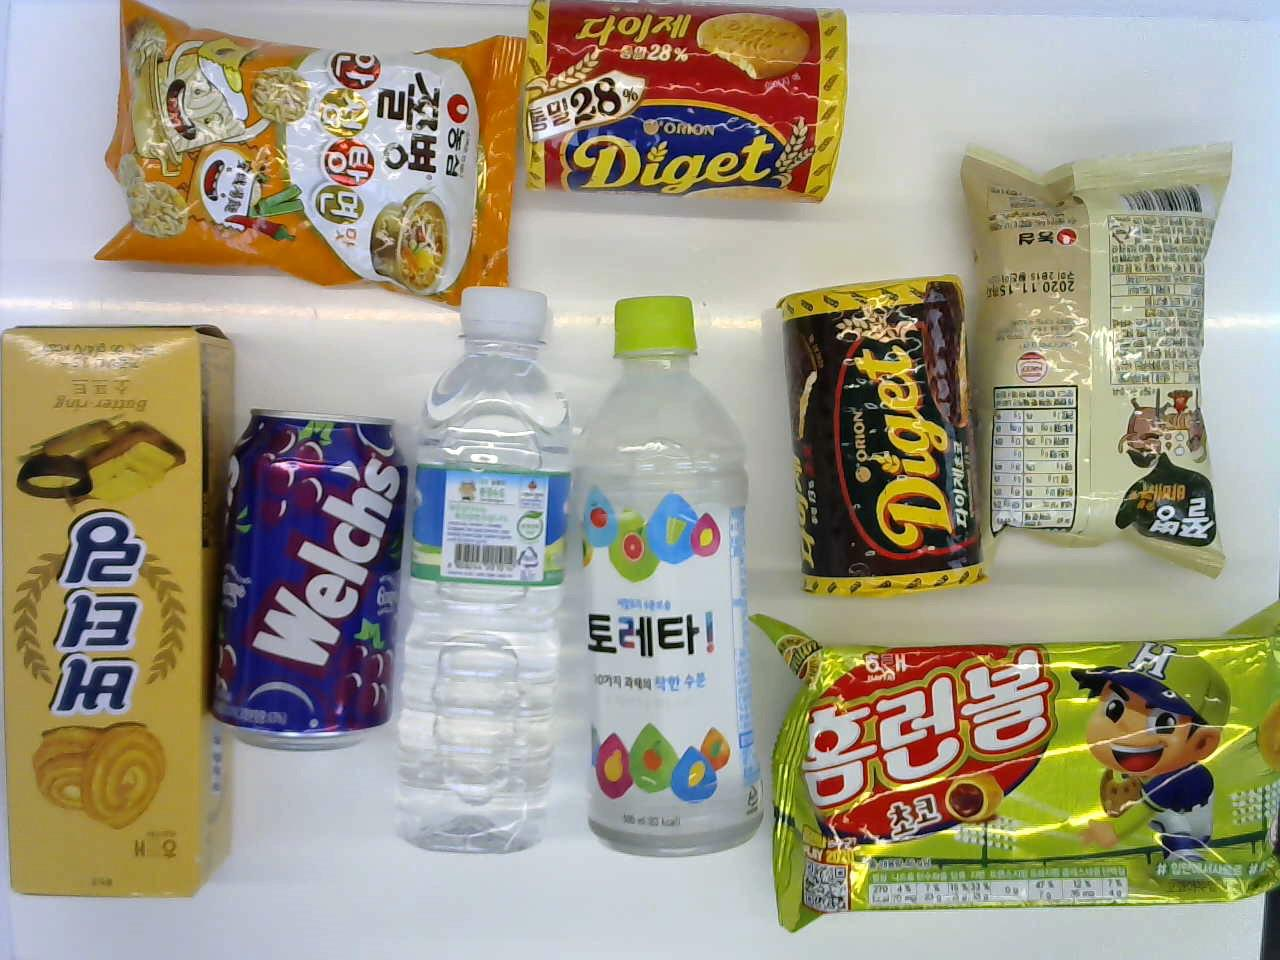buttering: (2, 312, 239, 905)
diget_choco: (781, 255, 982, 617)
diget_ori: (521, 4, 852, 224)
homerunball: (767, 615, 1270, 922)
jjolbyung_noodle: (109, 1, 515, 299)
jjolbyung_ori: (955, 147, 1232, 556)
samdasu: (392, 288, 577, 865)
toreta: (572, 272, 756, 850)
welchs: (213, 394, 413, 756)
